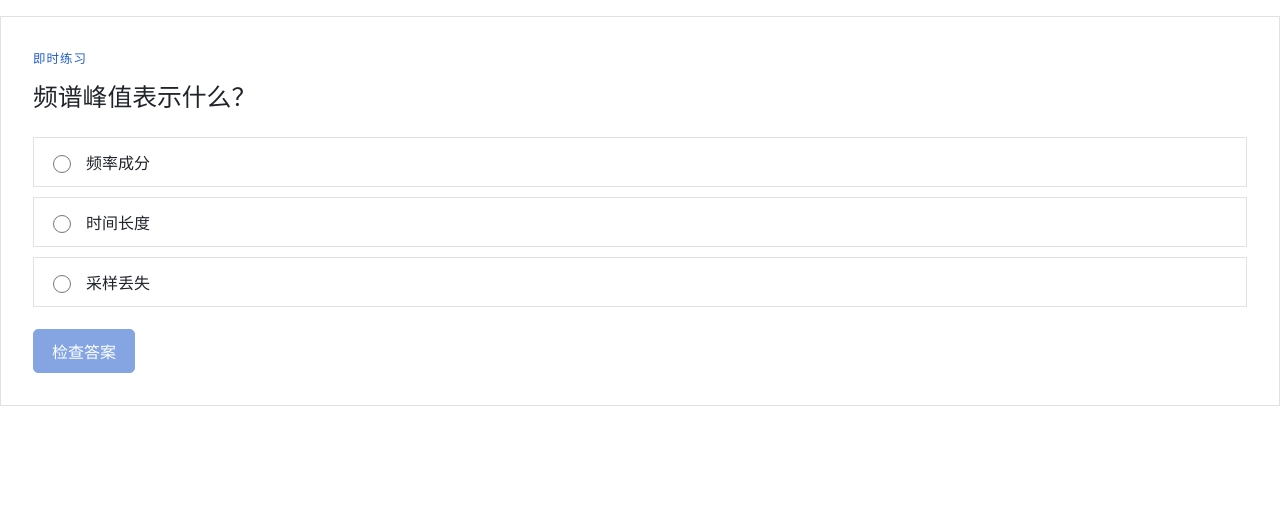
Test: Quiz › 答错后允许继续尝试
Step 1. Click the radio button labelled "时间长度" → x=62, y=224, box x1=53 y1=214 x2=71 y2=232
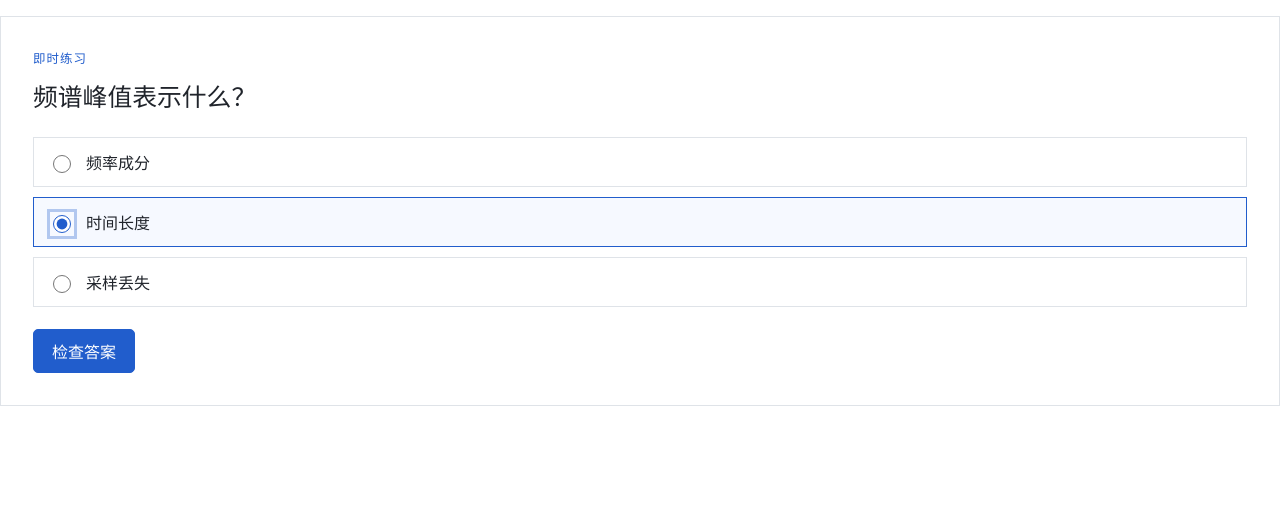
Step 2. Click the button "检查答案" → x=84, y=351, box x1=33 y1=329 x2=135 y2=373
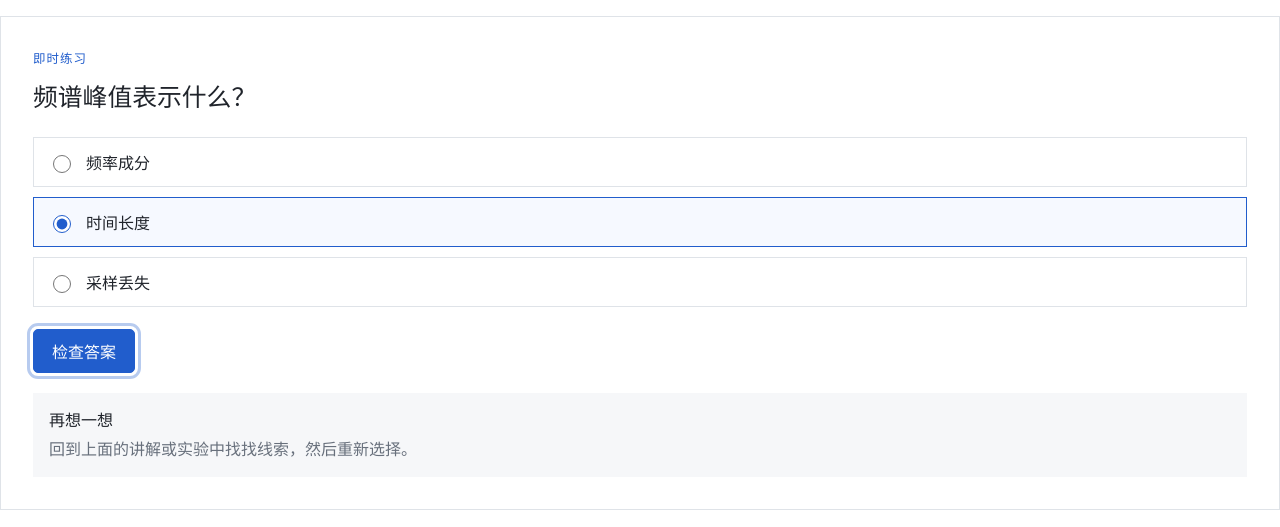
Check: the button "检查答案" is enabled, box x1=33 y1=329 x2=135 y2=373
Check: the text "再想一想" is shown, box x1=49 y1=409 x2=113 y2=431
